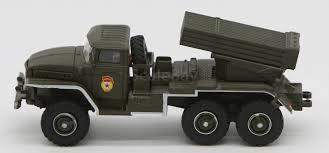MIL_SAM_TEL: (16, 10, 307, 147)
